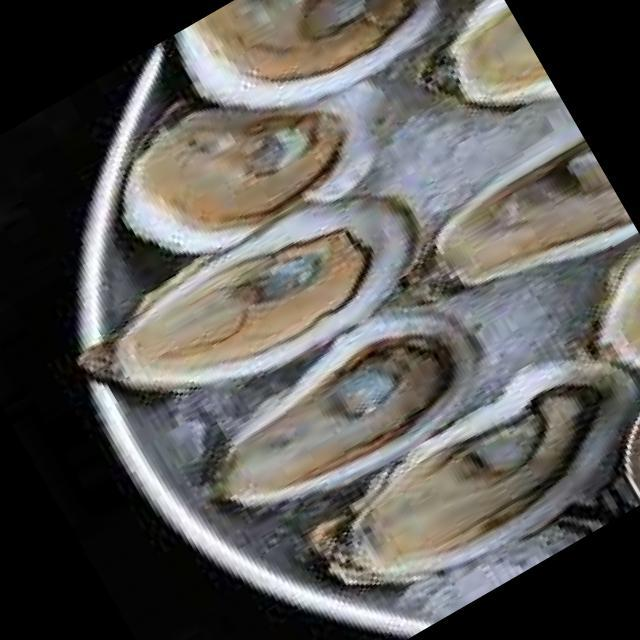Oyster-Open: (304, 361, 639, 587), (100, 199, 416, 393), (216, 316, 481, 506), (124, 82, 382, 254), (176, 0, 437, 107), (435, 150, 635, 288), (449, 0, 558, 110), (595, 240, 640, 397)
